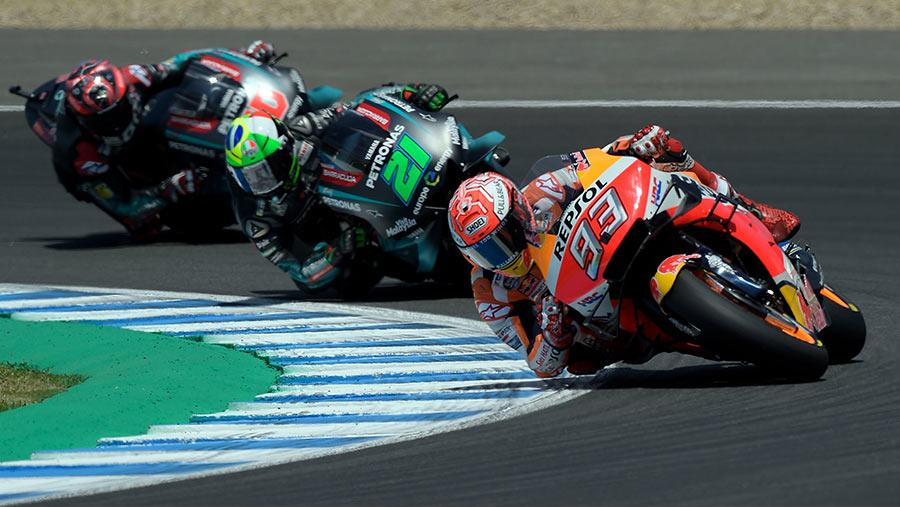helmet: (441, 167, 536, 277), (59, 53, 144, 148), (221, 115, 297, 207)
